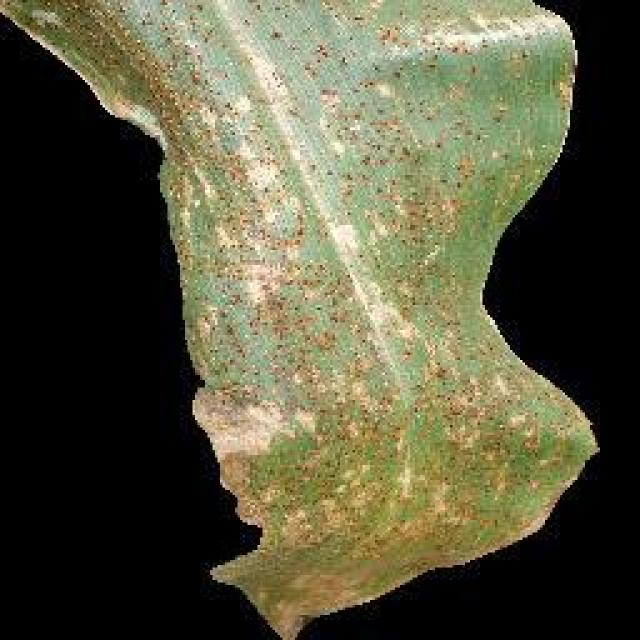Corn Common Rust: (182, 110, 590, 558)
